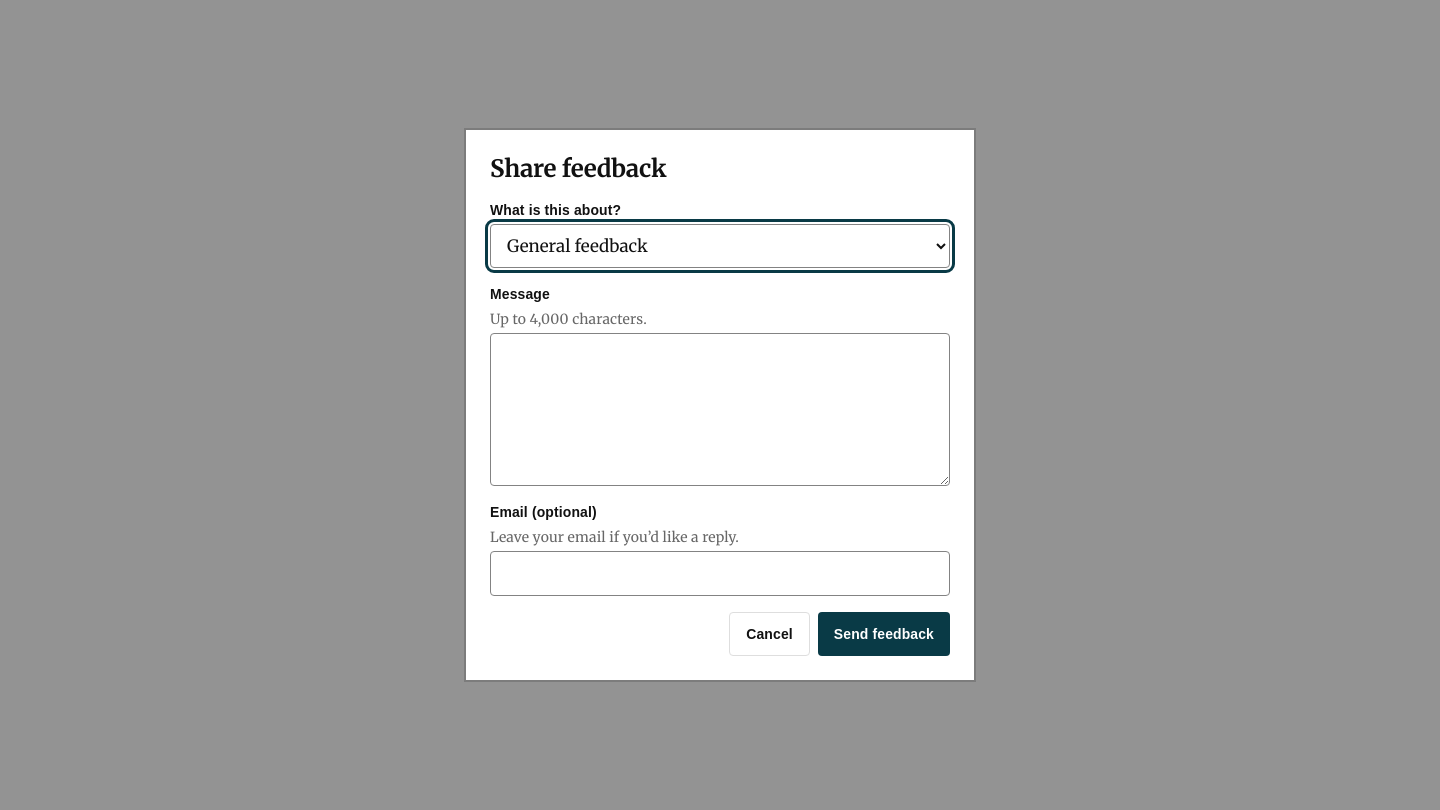
Test: FeedbackModal › takes the mark off the field once there is a message to send
The image size is (1440, 810).
Step 1. Click the button "Send feedback" → [884, 634], box [818,612,950,656]
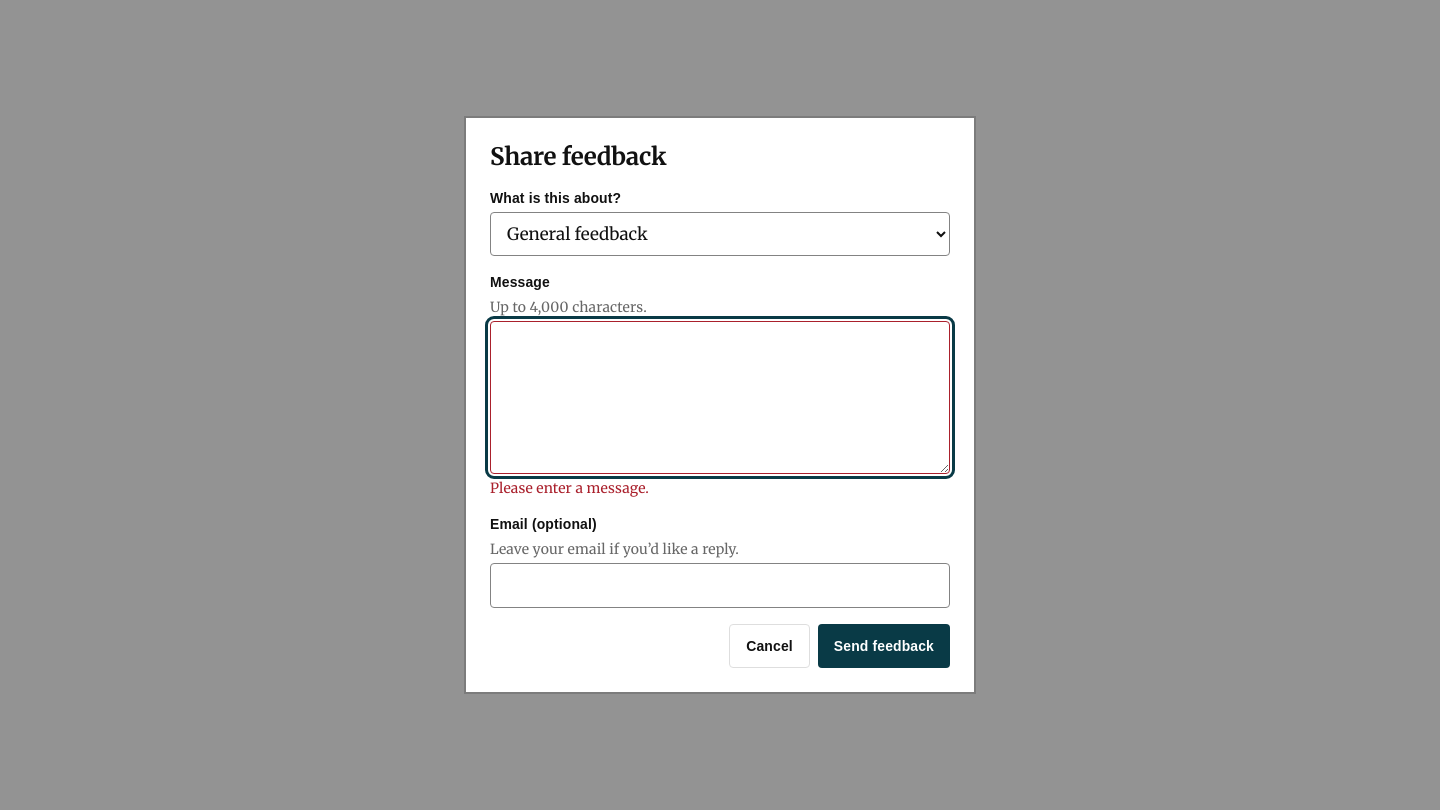
Expected: the text box labelled "Message" is marked as invalid
Step 2. Type "The link is broken." into the text box labelled "Message" → [720, 397], box [490,321,950,474]
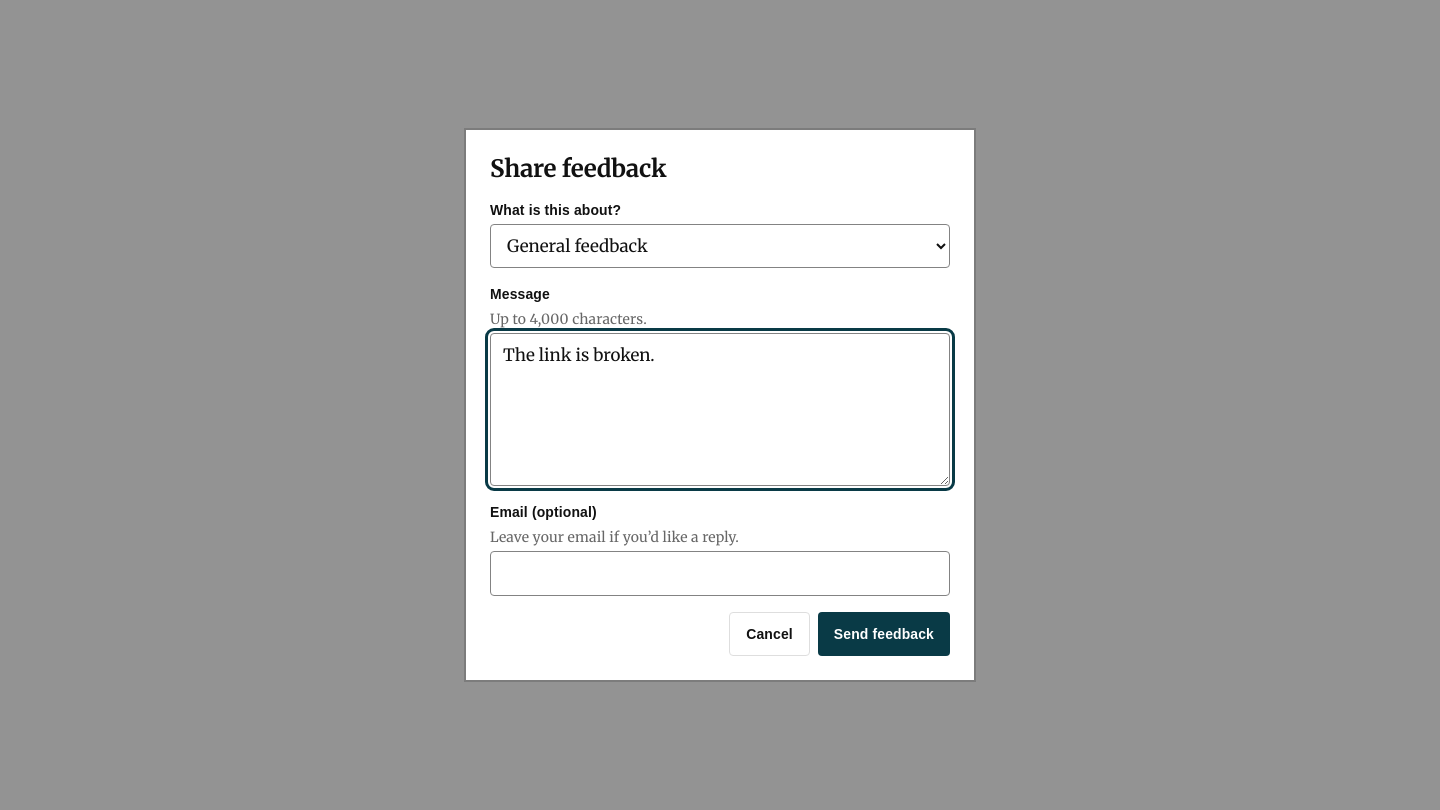
Expected: the text "Please enter a message." is gone
